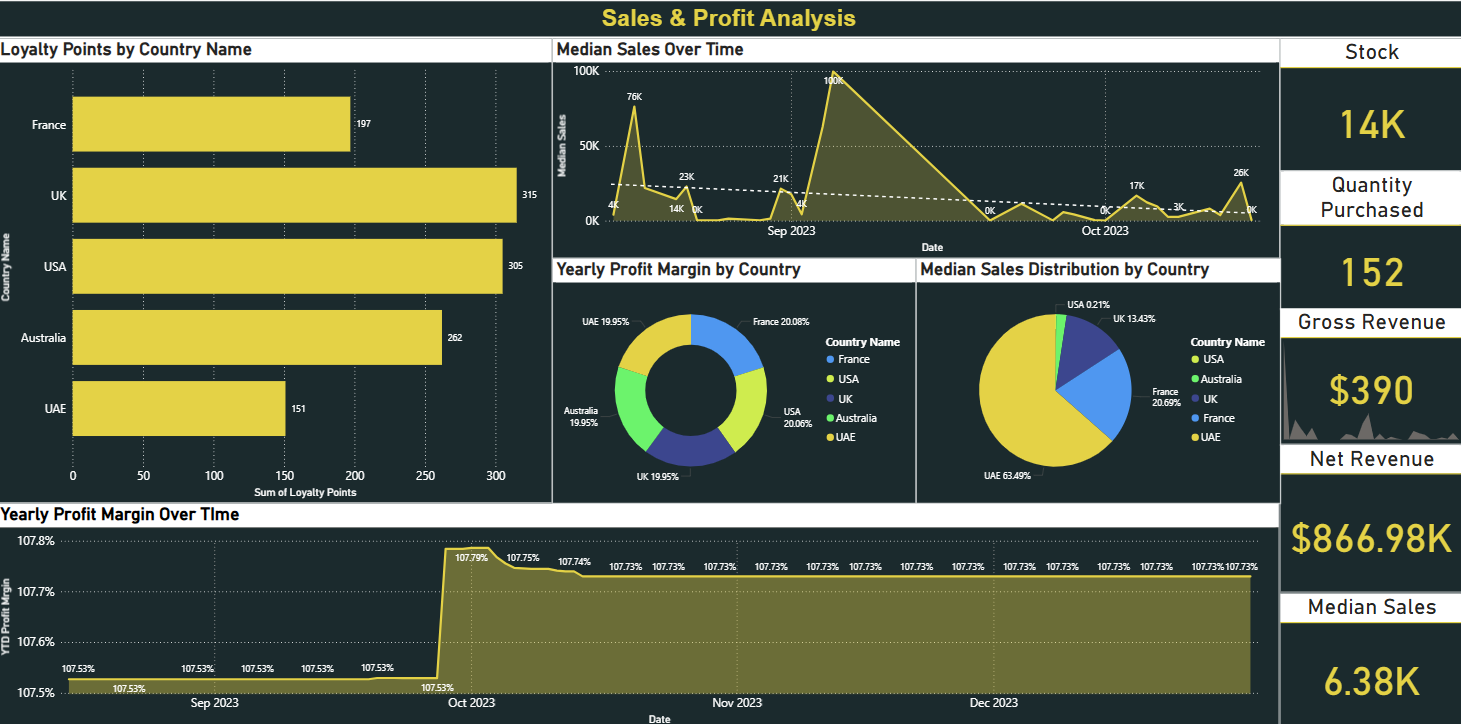

Layout of this report page (visuals, bound fields, positions):
{"tool":"powerbi","page":{"name":"Sales & Profit  Analysis","canvas":[2000,1000],"ordinal":2},"visuals":[{"type":"clusteredBarChart","title":"Loyalty Points by Country Name","fields":{"Category":["Sales in USD.Country Name"],"Y":["Sum(Sales in USD. Loyalty Points)"]},"box":[0,56.2,758.4,634],"z":0},{"type":"textbox","box":[0,3.4,2000,52.8],"z":1000},{"type":"lineChart","title":"Median Sales Over Time","fields":{"Y":["Sales in USD.Median Sales"],"Category":["CalendarTable.Date"]},"box":[758.4,56.2,991.8,299.9],"z":2000},{"type":"card","title":"Stock","fields":{"Values":["Sum(Sales in USD. Stock  )"]},"box":[1750.2,56.2,250.5,180.6],"z":3000},{"type":"donutChart","title":"Yearly Profit Margin by Country","fields":{"Category":["Sales in USD.Country Name"],"Y":["Sales in USD.Yearly Profit Margin"]},"box":[758.4,356.2,495.9,334],"z":4000},{"type":"card","title":"Quantity Purchased","fields":{"Values":["Sum(Sales in USD.Quantity Purchased)"]},"box":[1749.6,236.2,250.7,189],"z":5000},{"type":"kpi","title":"Gross Revenue","fields":{"Indicator":["Sum(Sales in USD.Gross Revenue USD)"],"TrendLine":["CalendarTable.Date"]},"box":[1750.2,424.3,250.5,185.8],"z":6000},{"type":"card","title":"Net Revenue","fields":{"Values":["Sum(Sales in USD.Net Revenue USD)"]},"box":[1749.6,610.5,250.7,201.7],"z":7000},{"type":"areaChart","title":"Yearly Profit Margin Over TIme","fields":{"Y":["Sales in USD.YTD Profit Mrgin"],"Category":["CalendarTable.Date"]},"box":[0,690.4,1749.6,308.9],"z":8000},{"type":"card","title":"Median Sales","fields":{"Values":["Sales in USD.Median Sales"]},"box":[1749.6,812.1,250.7,187.1],"z":9000},{"type":"pieChart","title":"Median Sales Distribution by Country","fields":{"Category":["Sales in USD.Country Name"],"Y":["Sales in USD.Median Sales"]},"box":[1254.3,356.2,497.6,334],"z":10000}]}

Visuals, with their boxes in screenshot pixels (x1, y1, x2, y2), scaled from the page's 2000x1000 canvas onto the 1461x724 screenshot:
"Loyalty Points by Country Name" clusteredBarChart: l=0, t=41, r=554, b=500
textbox: l=0, t=2, r=1460, b=41
"Median Sales Over Time" lineChart: l=554, t=41, r=1279, b=258
"Stock" card: l=1279, t=41, r=1460, b=171
"Yearly Profit Margin by Country" donutChart: l=554, t=258, r=916, b=500
"Quantity Purchased" card: l=1278, t=171, r=1460, b=308
"Gross Revenue" kpi: l=1279, t=307, r=1460, b=442
"Net Revenue" card: l=1278, t=442, r=1460, b=588
"Yearly Profit Margin Over TIme" areaChart: l=0, t=500, r=1278, b=723
"Median Sales" card: l=1278, t=588, r=1460, b=723
"Median Sales Distribution by Country" pieChart: l=916, t=258, r=1280, b=500
